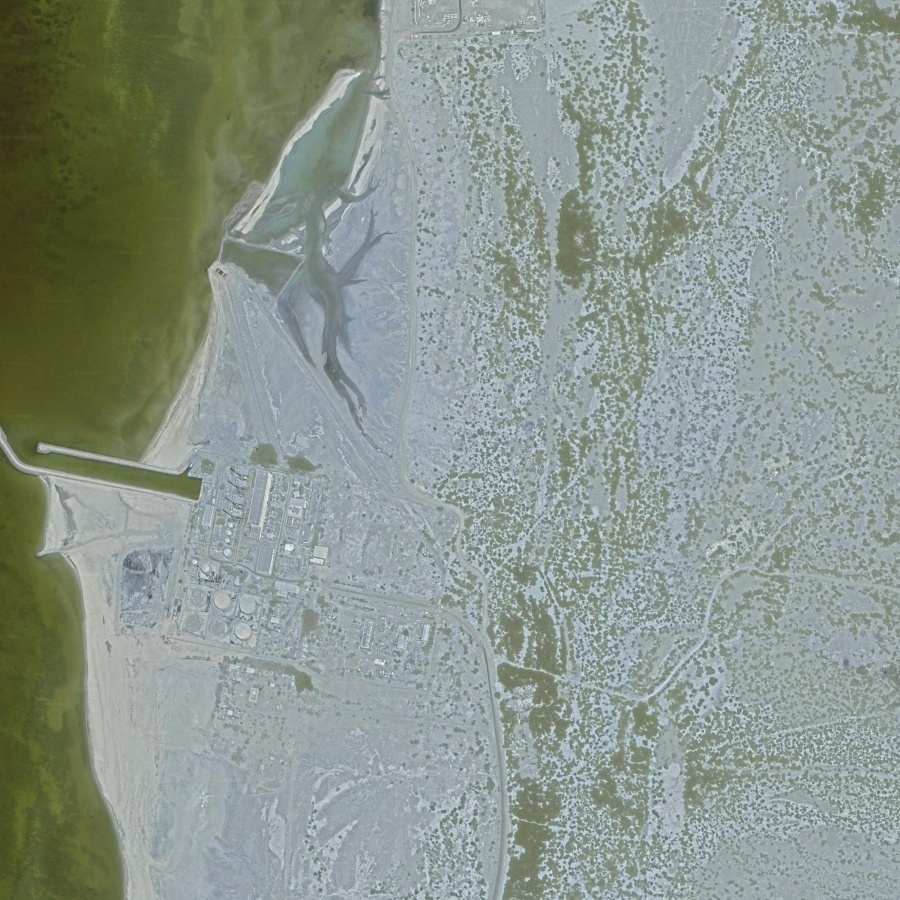PowerPlant: (109, 455, 337, 658)
